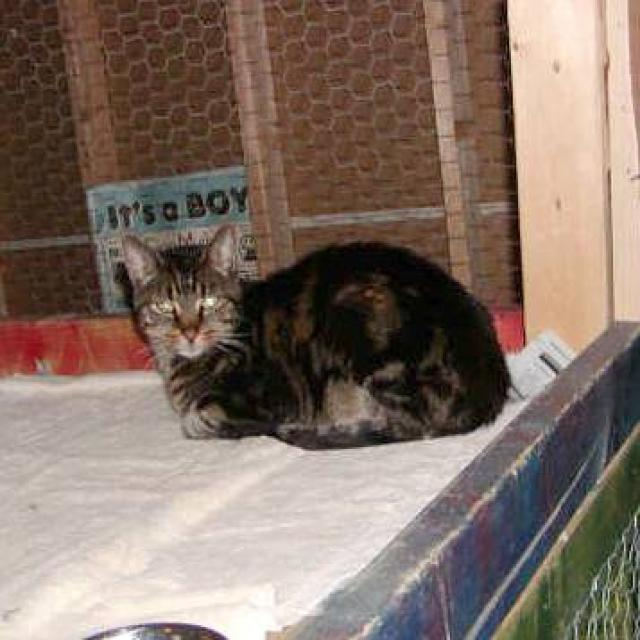cat: (113, 222, 522, 450)
